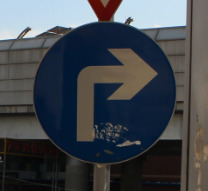right_turn: (32, 20, 176, 165)
